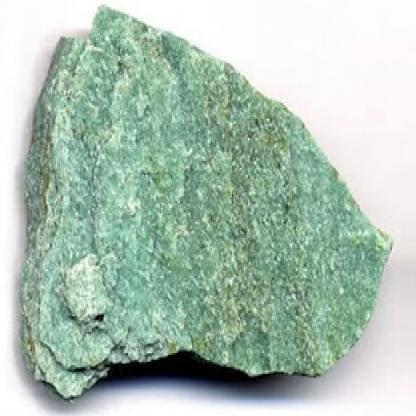Metamorphic_Quartize: (15, 7, 404, 404)
